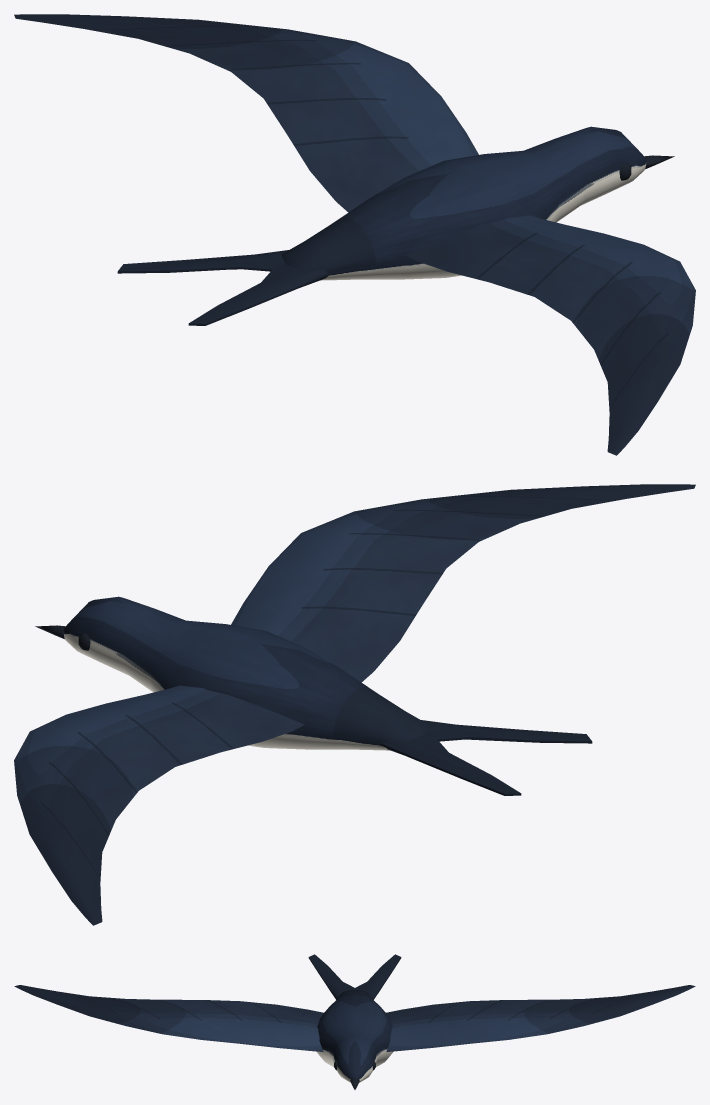
3 views of the same model, one above another, from view 1: azimuth 30°, elevation 25°; view 2: azimuth 150°, elevation 25°; view 3: azimuth 270°, elevation 25° (orthographic). The views are drawn at different scales.
Visible parts, largest first — view 1: Mesh_WingL, Mesh_Body, Mesh_WingR; view 2: Mesh_WingR, Mesh_Body, Mesh_WingL; view 3: Mesh_WingL, Mesh_WingR, Mesh_Body.
Boxes of the visible parts, x1=… form: Mesh_WingL: x1=14, y1=14, x2=478, y2=212; Mesh_Body: x1=117, y1=126, x2=646, y2=325; Mesh_WingR: x1=405, y1=215, x2=695, y2=455; Mesh_WingR: x1=231, y1=484, x2=695, y2=682; Mesh_Body: x1=63, y1=596, x2=592, y2=795; Mesh_WingL: x1=14, y1=685, x2=304, y2=925; Mesh_WingL: x1=386, y1=985, x2=695, y2=1051; Mesh_WingR: x1=14, y1=985, x2=323, y2=1051; Mesh_Body: x1=308, y1=954, x2=401, y2=1082.
Size of the model in its own units: 0.28 by 0.0525 by 0.56.
Materials: 3 (2 with a texture image).
